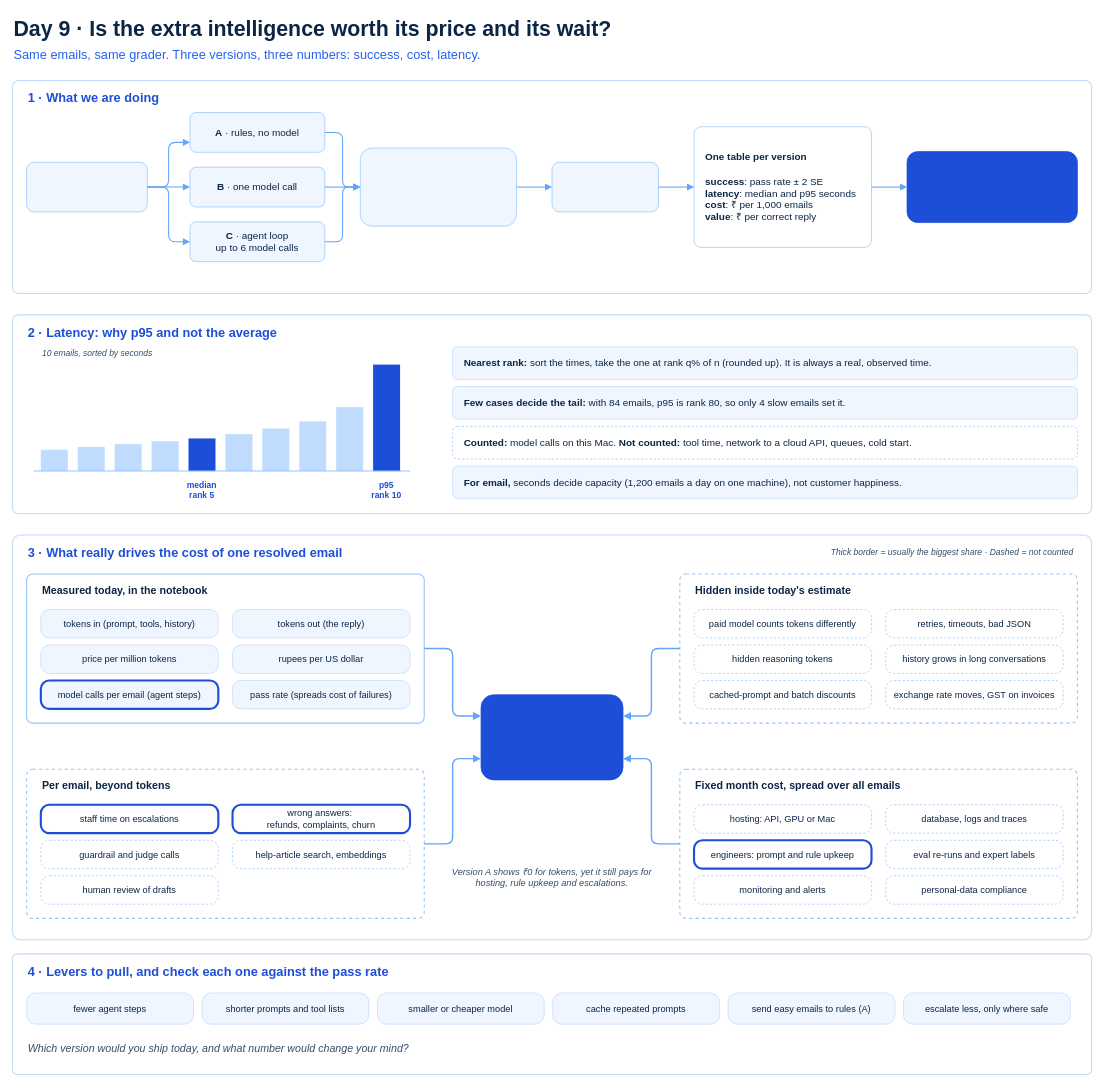
This 1105x1087 diagram has some shape labels left out. The shapes that lost their labels are listed below. From the top down, each one's centre as x and y in pixels, then its label:
At (x=86, y=187): "84 test emails cases.jsonl".
At (x=438, y=186): "For every email we record reply · tokens in · tokens out · seconds".
At (x=605, y=187): "grader pass or fail".
At (x=991, y=187): "Which version would you ship?".
At (x=551, y=737): "₹ per resolved email".
